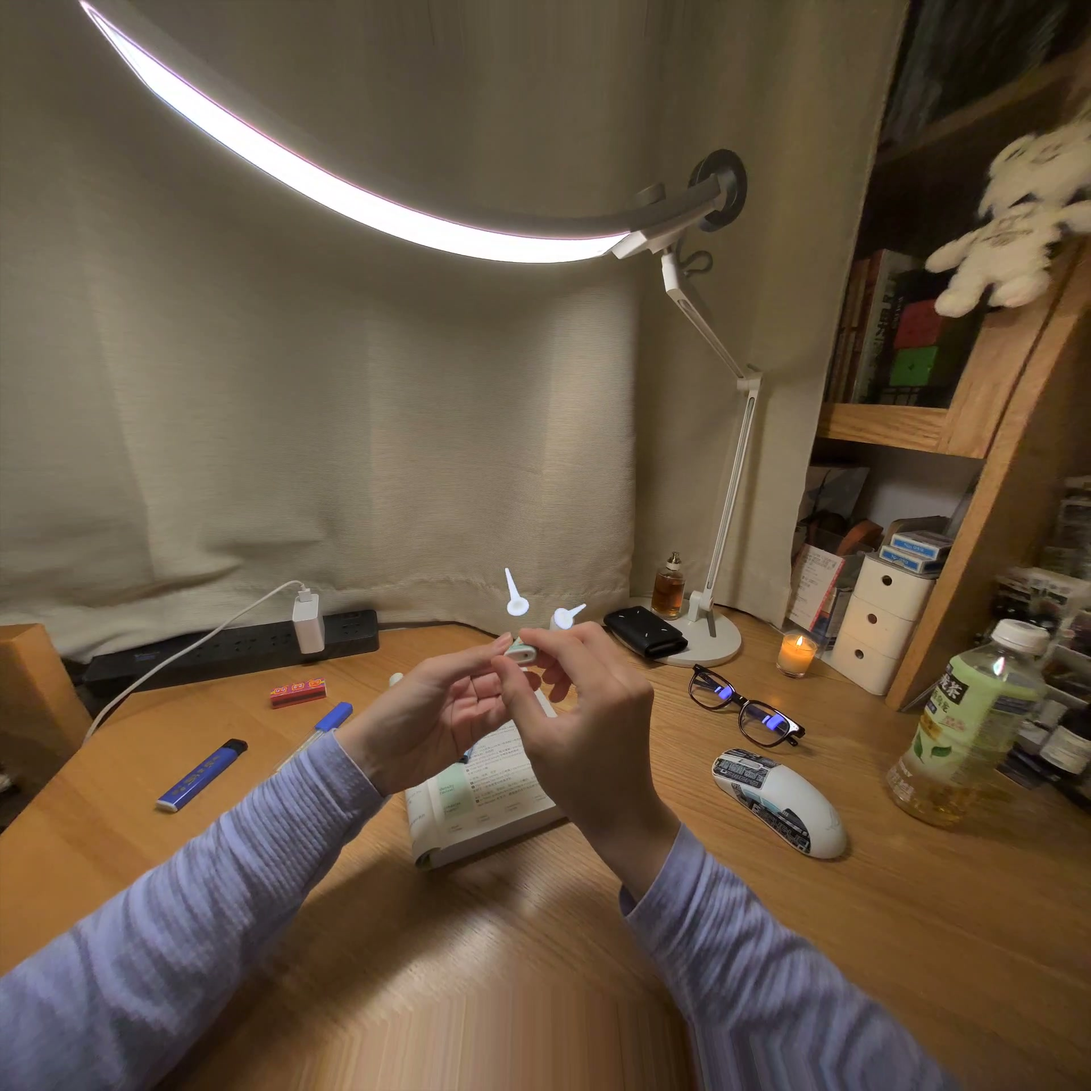lighter: (504, 640, 537, 665)
